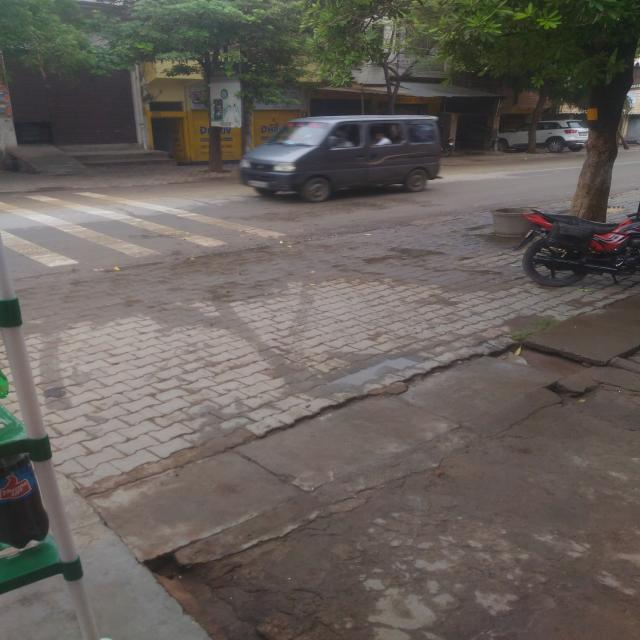Travller: (240, 109, 462, 200)
